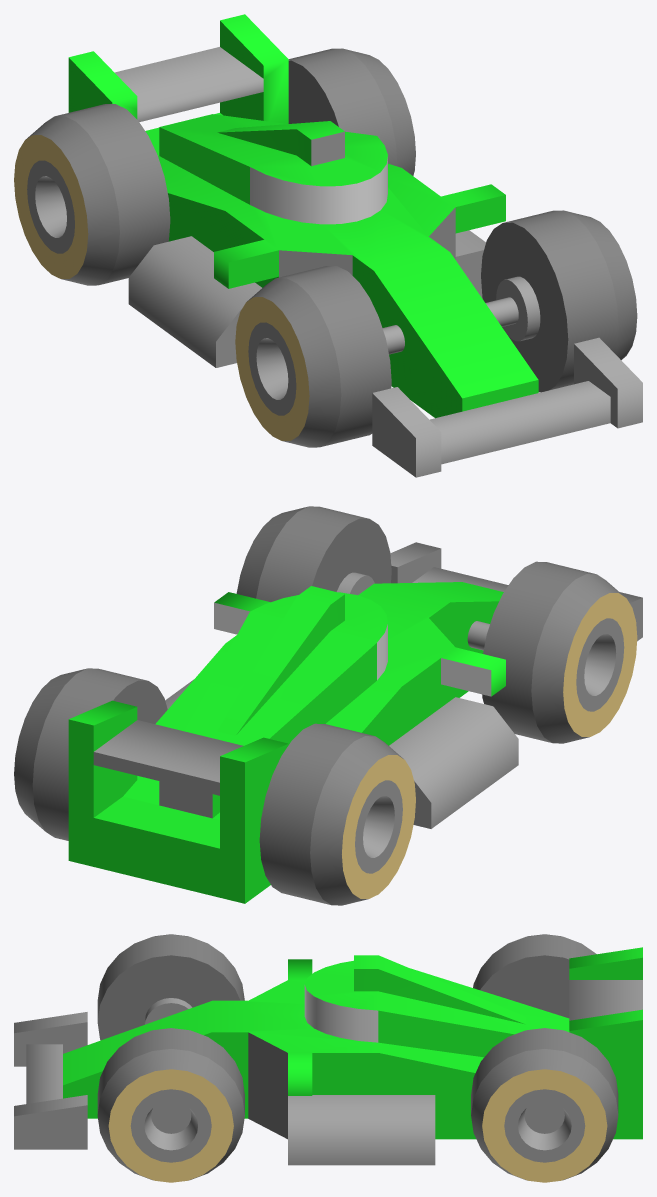
The model's file is GrenCar.gltf.
3 renders of one model, top to bottom at view 1: azimuth 30°, elevation 25°; view 2: azimuth 150°, elevation 25°; view 3: azimuth 270°, elevation 25°, orthographic. The views are drawn at different scales.
Visible parts, largest first — view 1: body, wheel_frontRight, wheel_backRight, wheel_frontLeft, wheel_backLeft; view 2: body, wheel_backRight, wheel_frontRight, wheel_backLeft, wheel_frontLeft; view 3: body, wheel_backLeft, wheel_frontLeft, wheel_frontRight, wheel_backRight.
Boxes of the visible parts, x1,y1,x2,y2 form: body: [68, 14, 642, 477]; wheel_frontRight: [235, 266, 391, 447]; wheel_backRight: [14, 104, 170, 285]; wheel_frontLeft: [481, 210, 637, 392]; wheel_backLeft: [288, 48, 415, 175]; body: [68, 542, 642, 903]; wheel_backRight: [259, 723, 415, 905]; wheel_frontRight: [482, 561, 637, 743]; wheel_backLeft: [14, 668, 167, 840]; wheel_frontLeft: [236, 506, 391, 602]; body: [14, 947, 642, 1165]; wheel_backLeft: [471, 1028, 618, 1182]; wheel_frontLeft: [97, 1028, 244, 1182]; wheel_frontRight: [97, 934, 244, 1040]; wheel_backRight: [473, 934, 596, 1018].
Bounding box in the file's own units: 1.3 × 0.7325 × 2.56.
